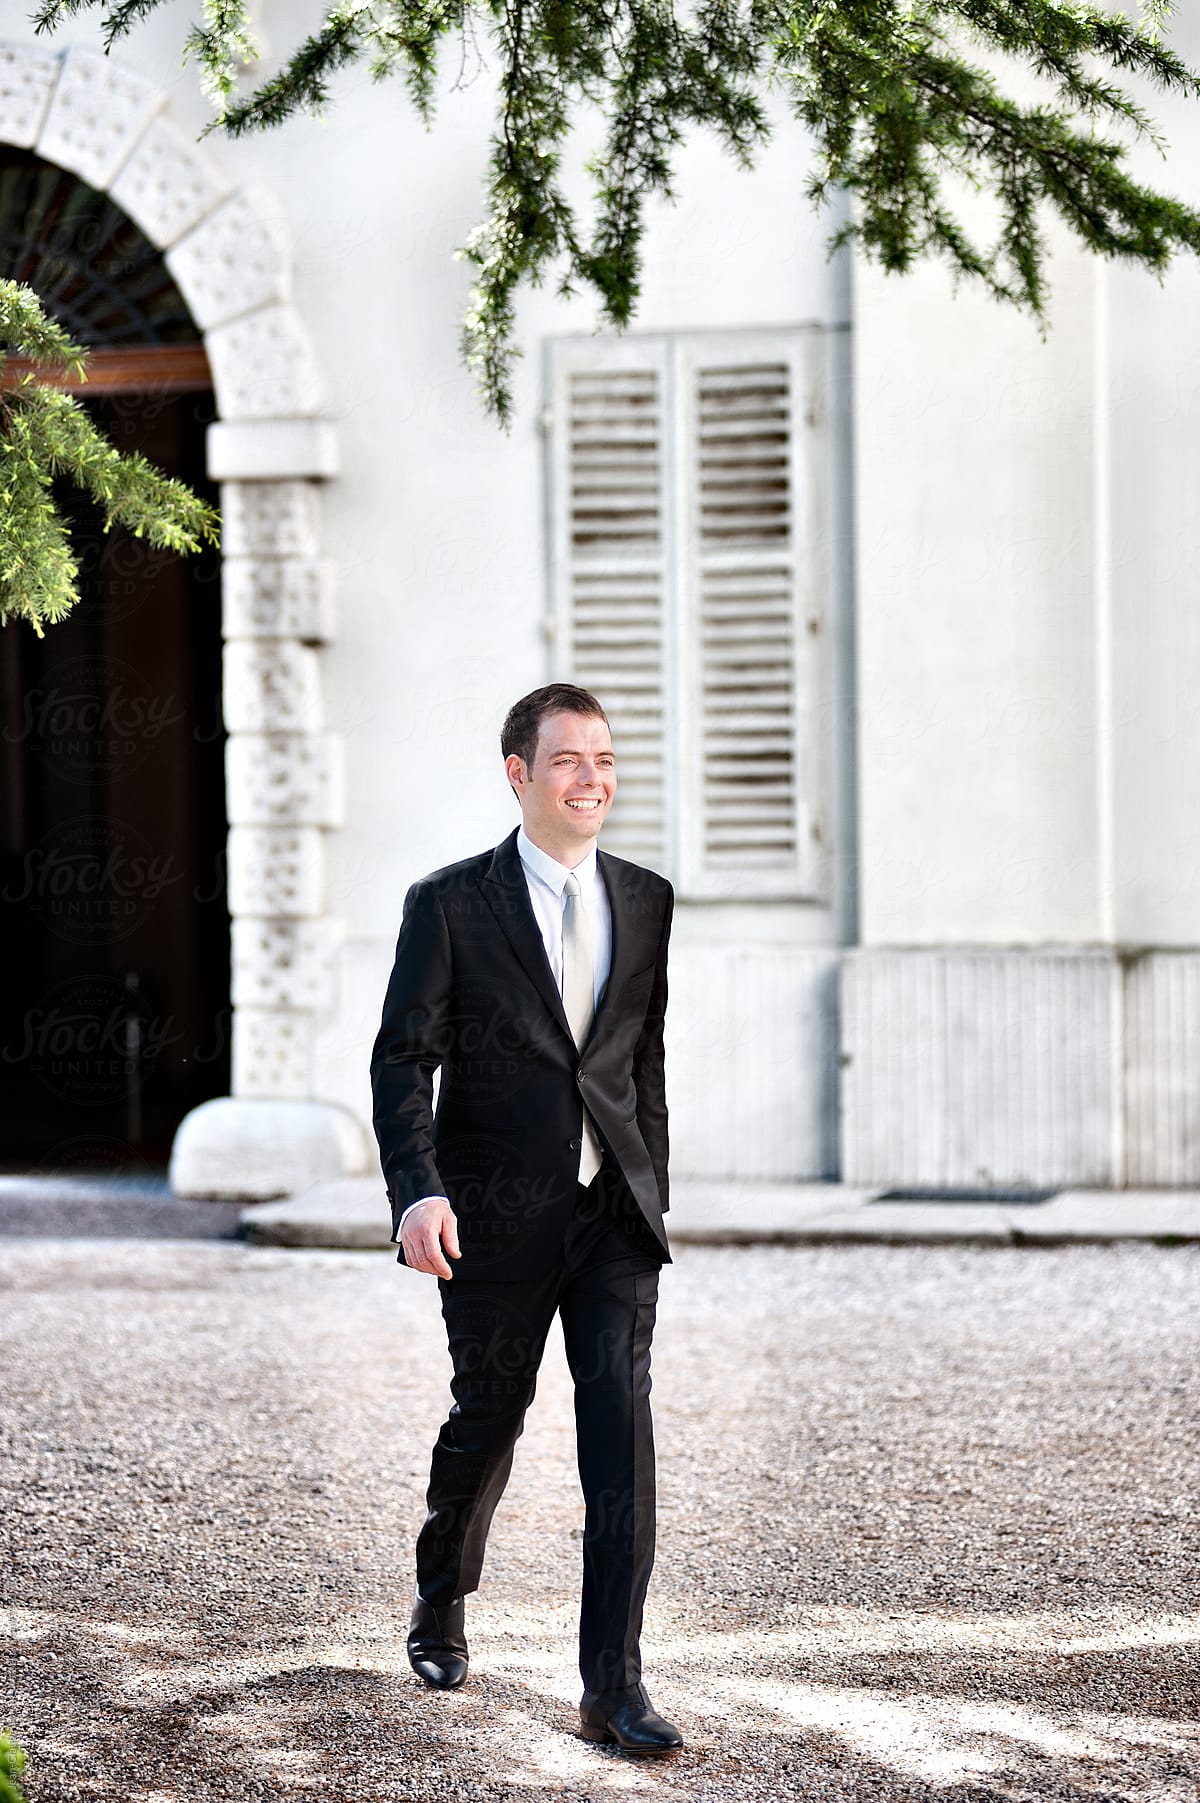feet: (386, 1519, 694, 1759)
